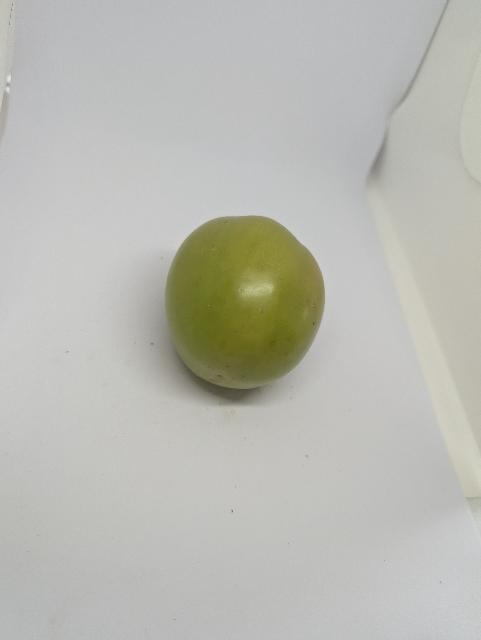green: (152, 191, 337, 418)
